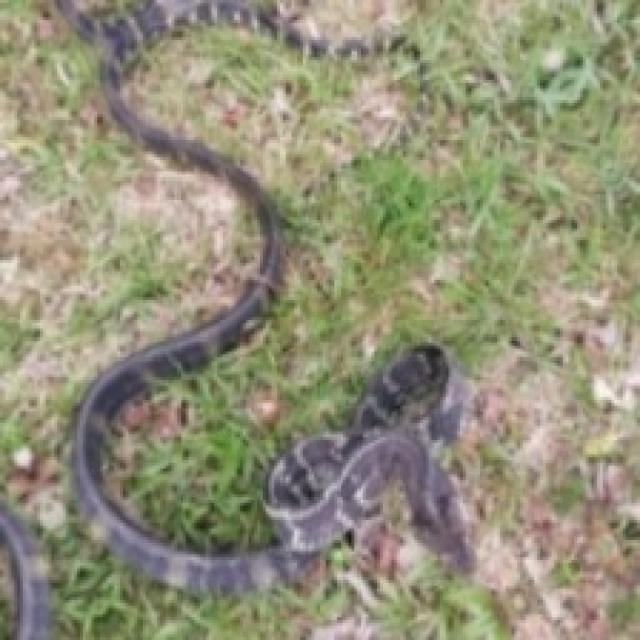dog-toothed cat snake: (57, 0, 471, 592)
